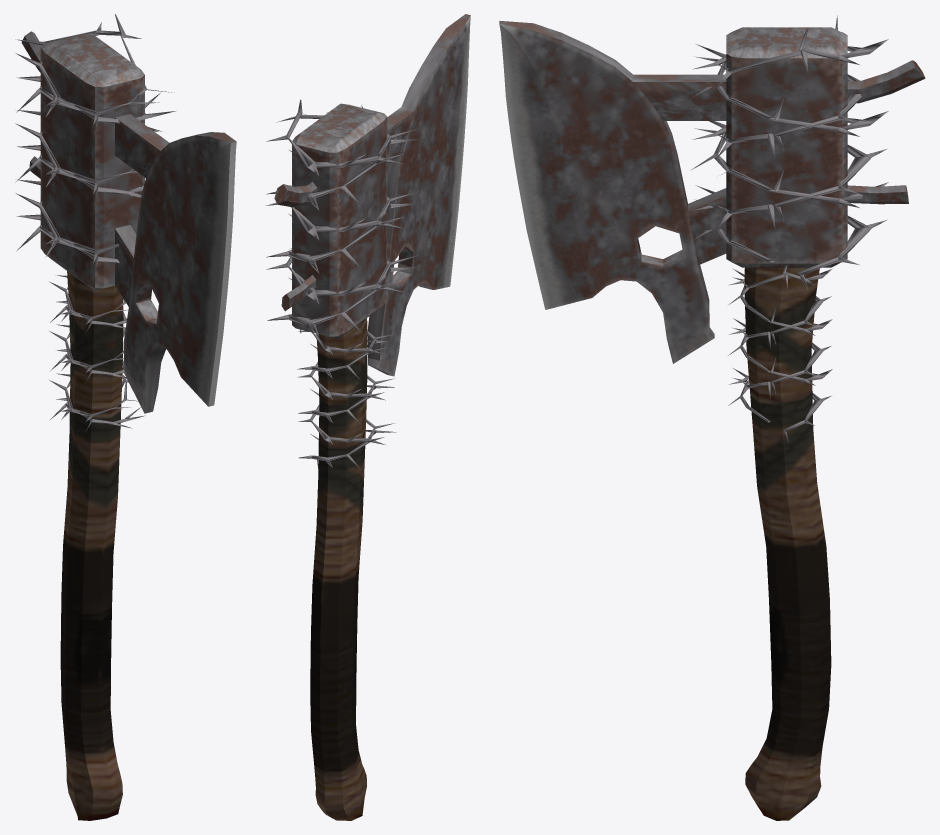
The model's file is LegionStandardAxe.fbx.
3 views of the same model, side by side, from view 1: azimuth 30°, elevation 25°; view 2: azimuth 150°, elevation 25°; view 3: azimuth 270°, elevation 25° (orthographic). The views are drawn at different scales.
Visible parts, largest first — view 1: Plane; view 2: Plane; view 3: Plane.
Boxes of the visible parts, <box> form: Plane: <box>15,14,236,820</box>; Plane: <box>266,14,470,820</box>; Plane: <box>499,15,925,820</box>.
Size of the model in its own units: 0.0568 by 0.3466 by 0.1669.
